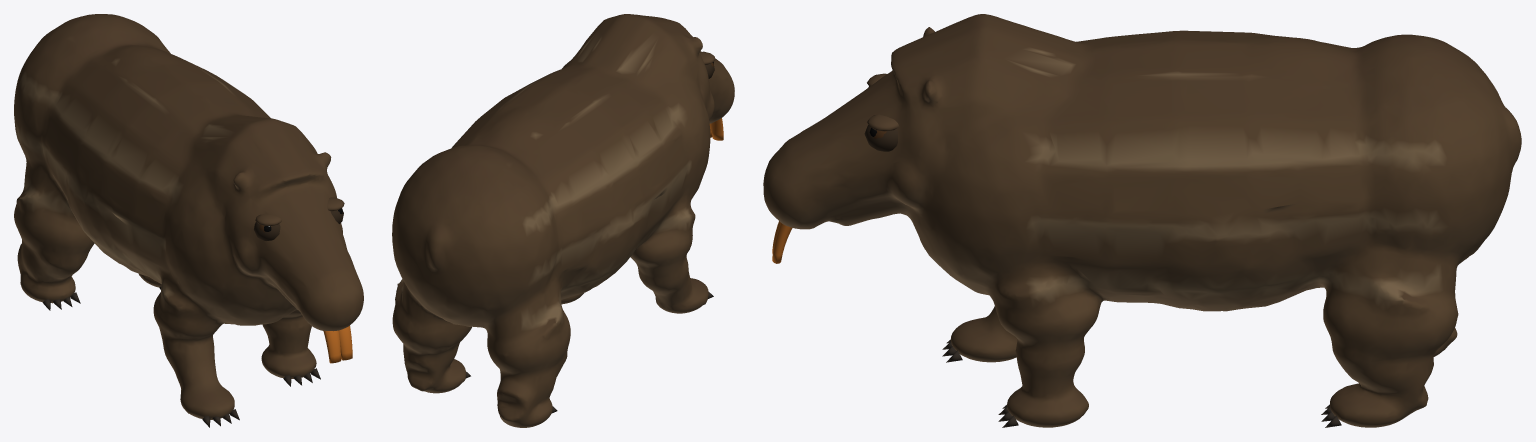
The model's file is JosephoartigasiaMonesi.fbx.
3 renders of one model, left to right at view 1: azimuth 30°, elevation 25°; view 2: azimuth 150°, elevation 25°; view 3: azimuth 270°, elevation 25°, orthographic. The views are drawn at different scales.
Parts seen in each view (by area): view 1: JosephoartigasiaMonesi; view 2: JosephoartigasiaMonesi; view 3: JosephoartigasiaMonesi.
Part boxes in pixels (bbox=[...]): JosephoartigasiaMonesi: bbox=[14, 14, 363, 427]; JosephoartigasiaMonesi: bbox=[392, 14, 734, 427]; JosephoartigasiaMonesi: bbox=[763, 14, 1521, 427].
Size of the model in its own units: 0.6788 by 1.05 by 1.95.
